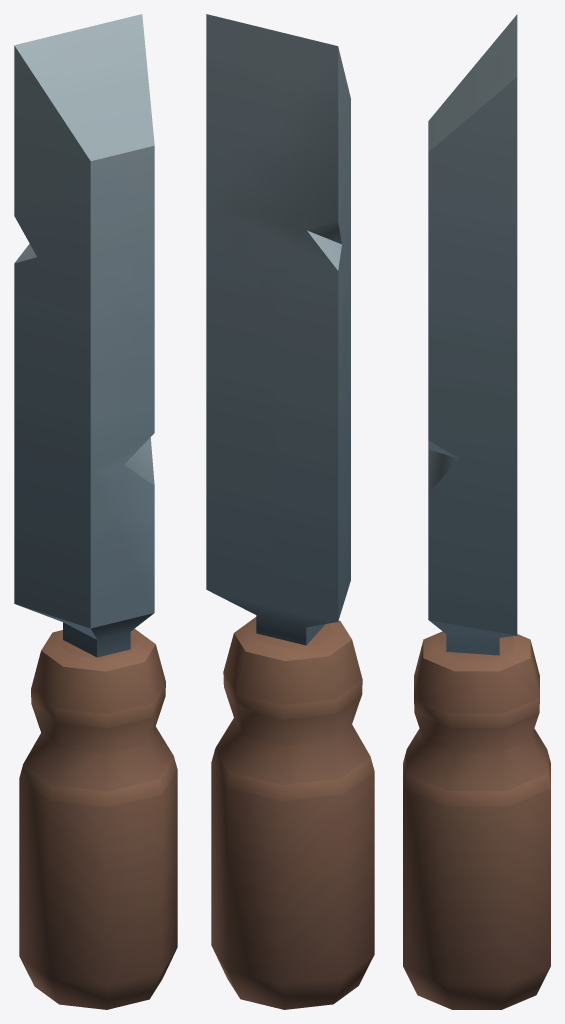
File: chisel.glb
The picture shows the model from 3 angles, left to right: view 1: azimuth 30°, elevation 25°; view 2: azimuth 150°, elevation 25°; view 3: azimuth 270°, elevation 25°; orthographic projection. The views are drawn at different scales.
Visible parts, largest first — view 1: chisel; view 2: chisel; view 3: chisel.
Part boxes in pixels (bbox=[...]): chisel: bbox=[14, 14, 177, 1009]; chisel: bbox=[206, 14, 374, 1009]; chisel: bbox=[403, 14, 550, 1009].
Bounding box in the file's own units: 0.1514 × 1.08 × 0.1512.
Materials: 1 (1 with a texture image).
